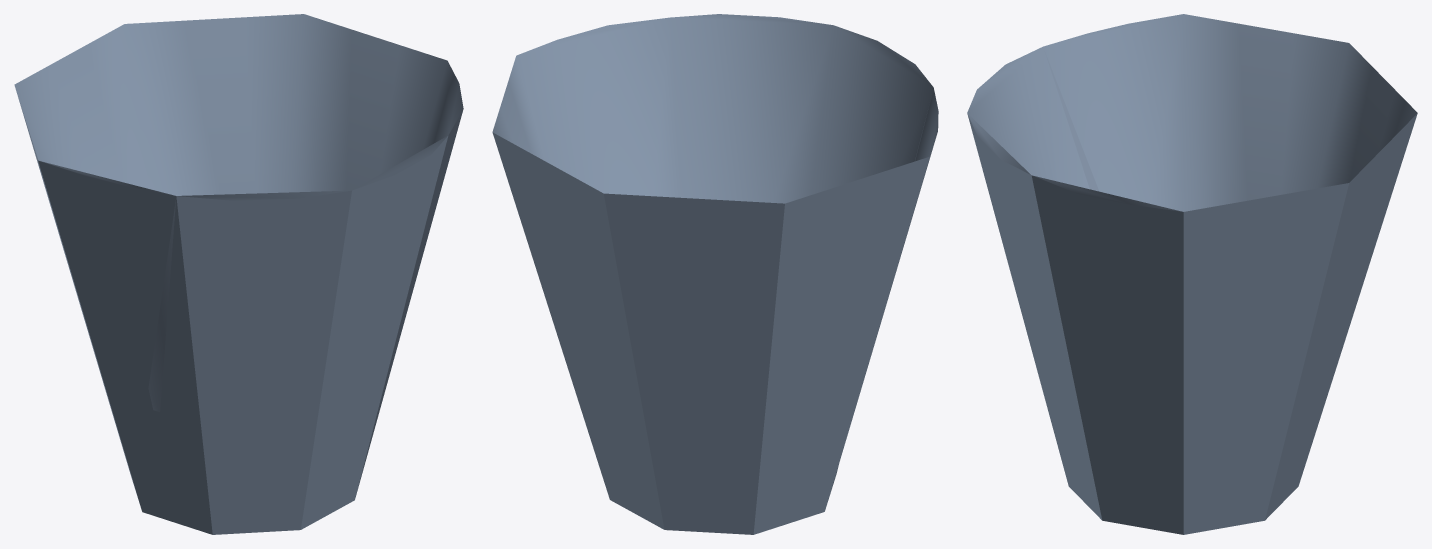
The model's file is cup003.fbx.
3 views of the same model, side by side, from view 1: azimuth 30°, elevation 25°; view 2: azimuth 150°, elevation 25°; view 3: azimuth 270°, elevation 25° (orthographic). The views are drawn at different scales.
Parts seen in each view (by area): view 1: pCylinder6; view 2: pCylinder6; view 3: pCylinder6.
Part boxes in pixels (bbox=[...]): pCylinder6: bbox=[14, 14, 463, 534]; pCylinder6: bbox=[492, 14, 938, 534]; pCylinder6: bbox=[967, 14, 1417, 534].
Bounding box in the file's own units: 4.86 × 4.28 × 4.68.
